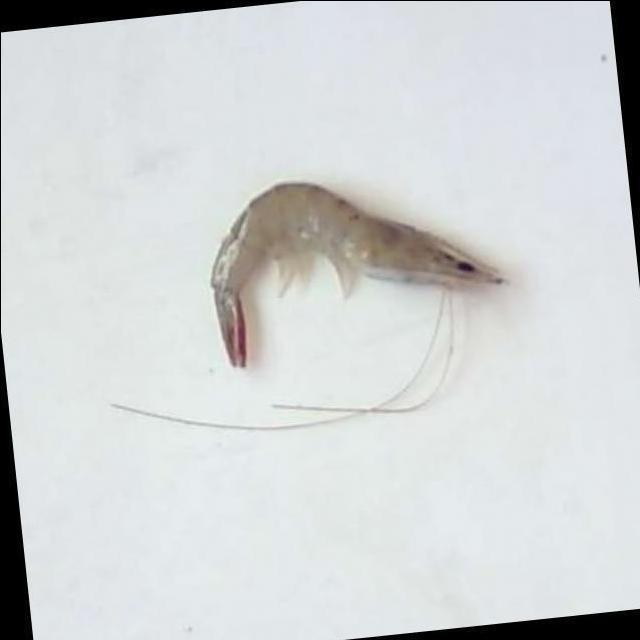shrimp: (209, 183, 503, 367)
